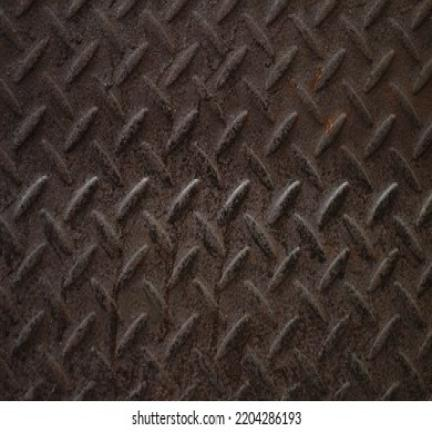karat: (0, 0, 431, 400), (0, 0, 431, 397)
